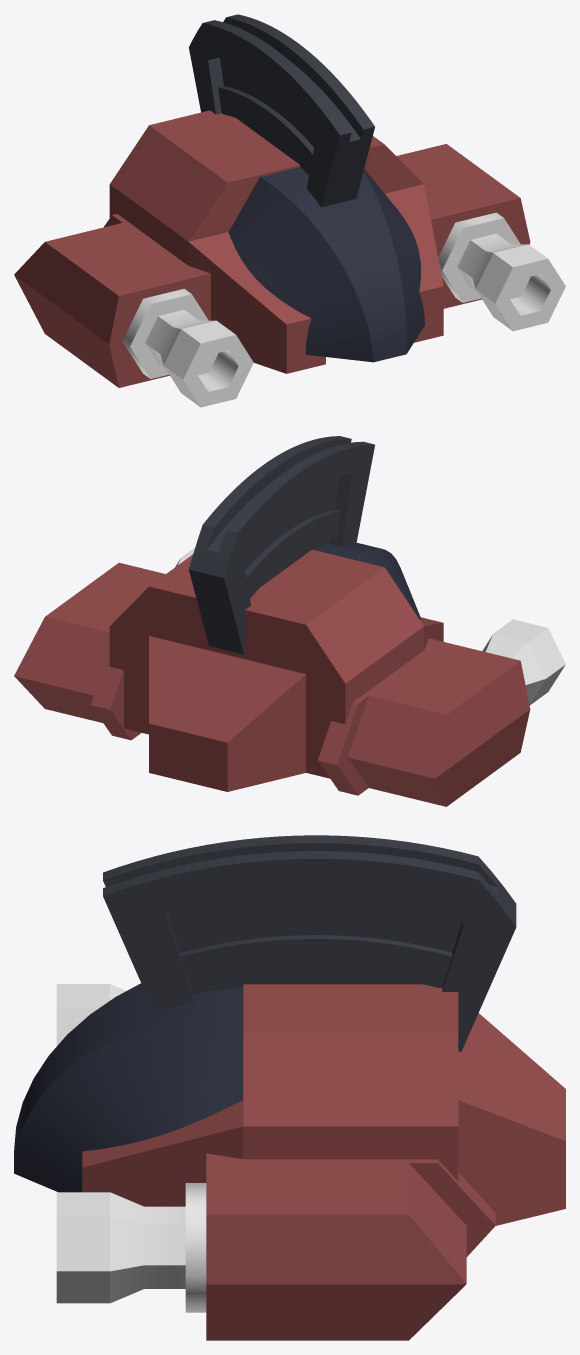
The model's file is flying_02_02.obj.
3 views of the same model, one above another, from view 1: azimuth 30°, elevation 25°; view 2: azimuth 150°, elevation 25°; view 3: azimuth 270°, elevation 25° (orthographic). The views are drawn at different scales.
Visible parts, largest first — view 1: mergedBlocks; view 2: mergedBlocks; view 3: mergedBlocks.
Boxes of the visible parts, x1,y1,x2,y2 form: mergedBlocks: (14,14,565,407); mergedBlocks: (14,436,565,806); mergedBlocks: (14,835,565,1340).
Size of the model in its own units: 1.61 by 0.9595 by 1.34.
